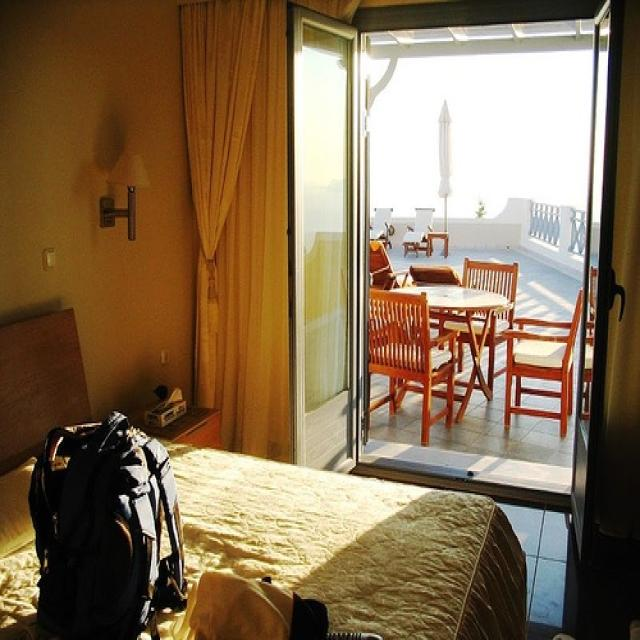chair: (366, 284, 454, 446), (500, 283, 582, 439), (435, 254, 521, 398)
